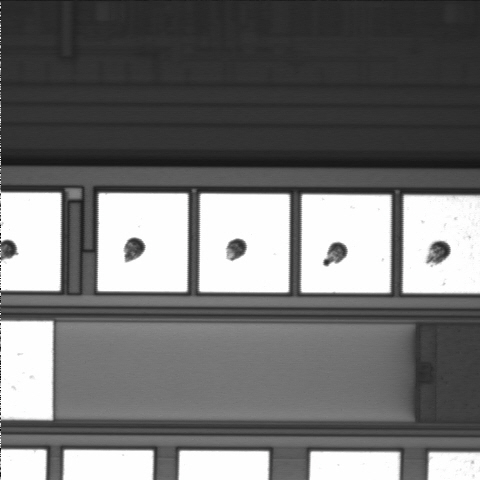pad: (98, 193, 188, 292), (199, 194, 289, 292), (301, 195, 391, 293)
